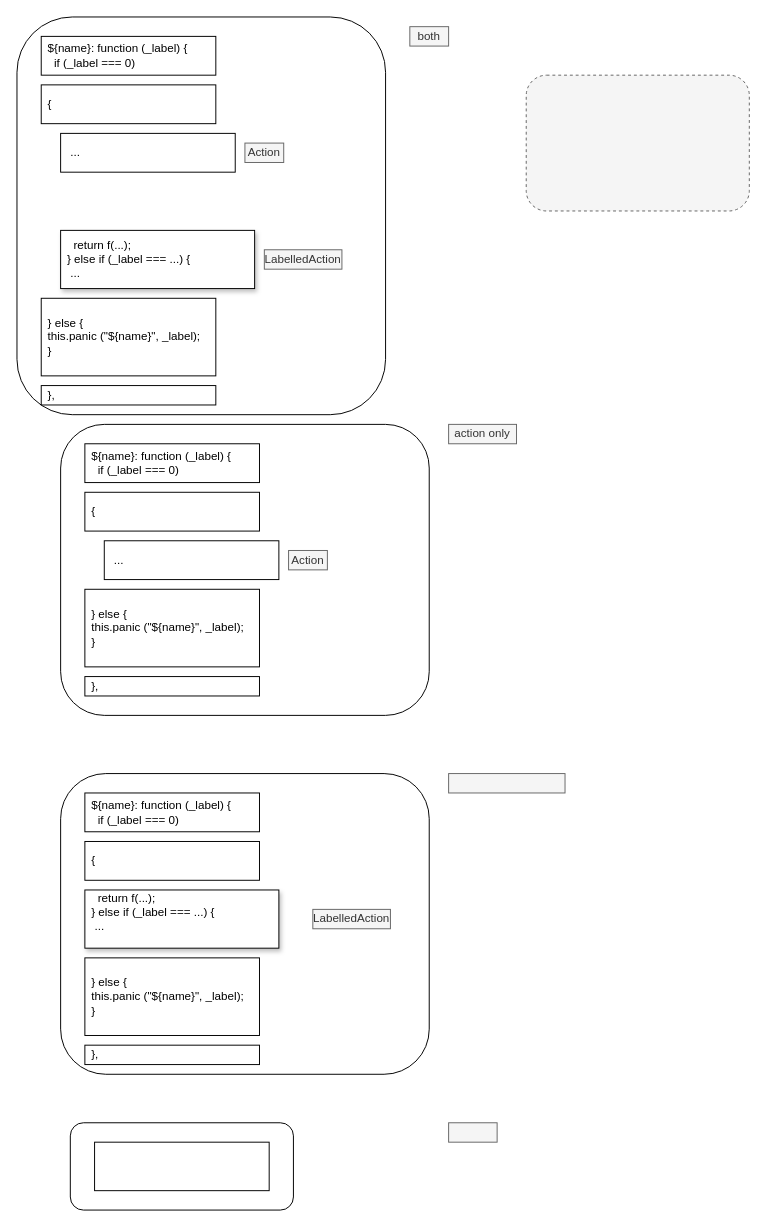
This 766x1227 diagram has some shape labels left out. Here are the shapes that lost their labels. From the top down, the centre of each, then its label:
the point at 637,142: Notes on dia.fmt
the point at 506,783: labelled actions only
the point at 472,1132: neither
the point at 181,1166: ${name}: function (_label) { this.panic ("${name}", _label); } ,
